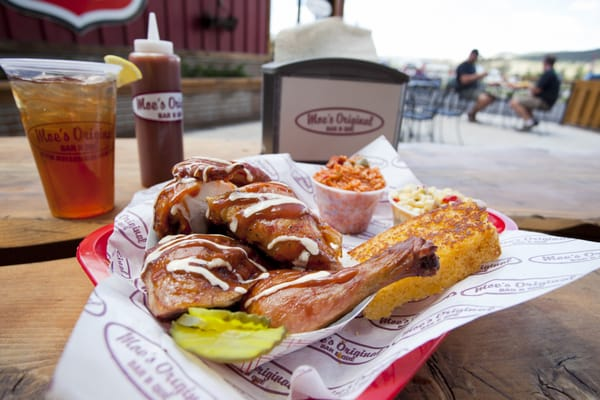sushi: (311, 155, 387, 234)
